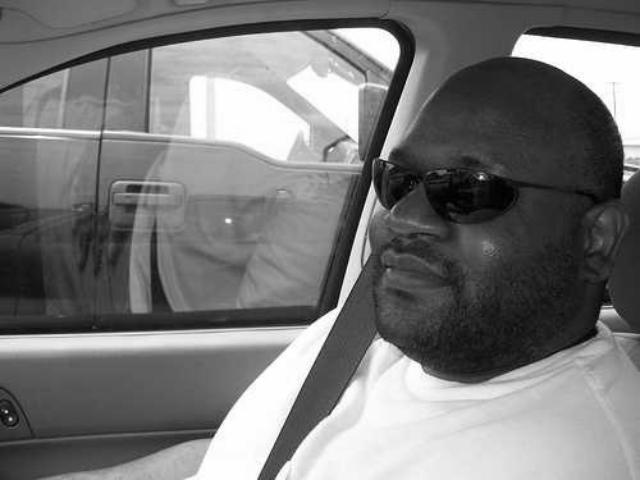Seatbelt: (254, 244, 382, 480)
